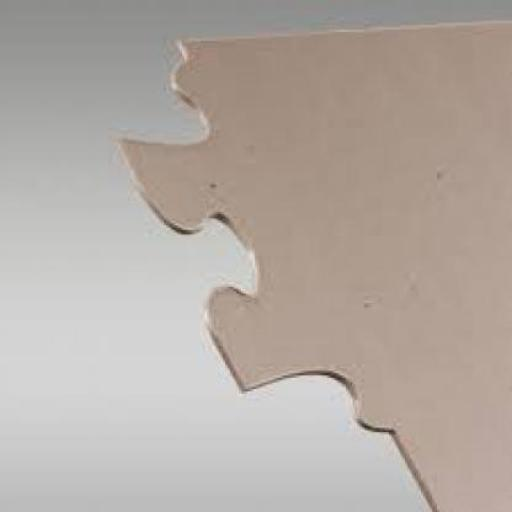cardboard: (112, 16, 510, 510)
